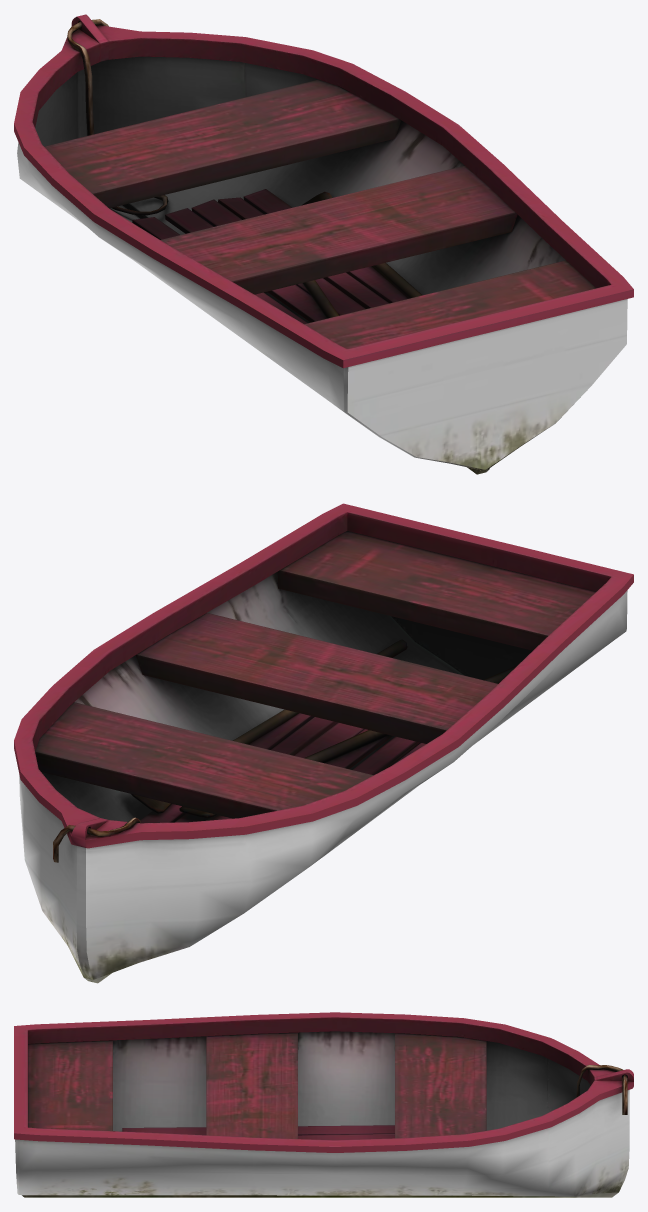
File: barca.glb
3 renders of one model, top to bottom at view 1: azimuth 30°, elevation 25°; view 2: azimuth 150°, elevation 25°; view 3: azimuth 270°, elevation 25°, orthographic. The views are drawn at different scales.
Visible parts, largest first — view 1: Box003; view 2: Box003; view 3: Box003.
Part boxes in pixels (x1,y1,x2,y2): Box003: [14, 14, 633, 474]; Box003: [14, 503, 633, 983]; Box003: [14, 1012, 633, 1197].
Size of the model in its own units: 239 by 103 by 466.
1 material, 1 textured.
